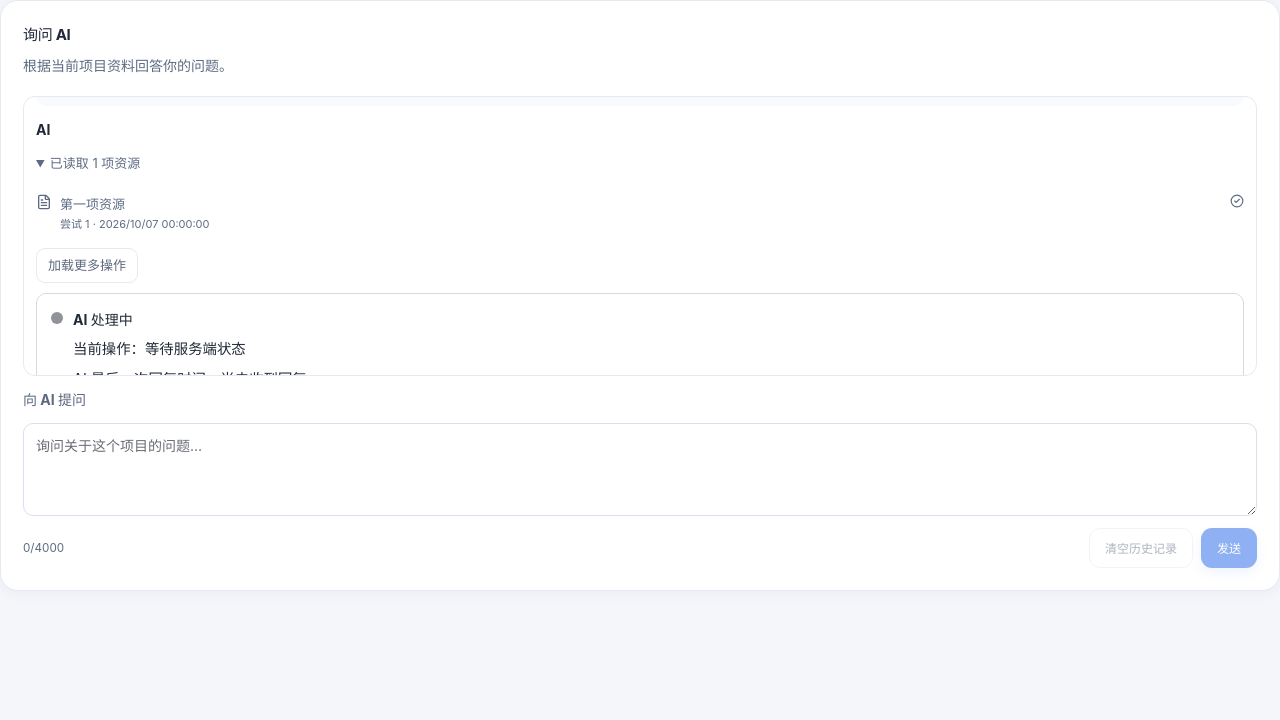
Test case: retains an operation page when the job fails while that page is loading
The image size is (1280, 720).
(page scrolled)
Expected: the text "第一项资源" is shown, [60,196,125,212]
Click the button "加载更多操作" at (87, 266), box [36,248,138,283]
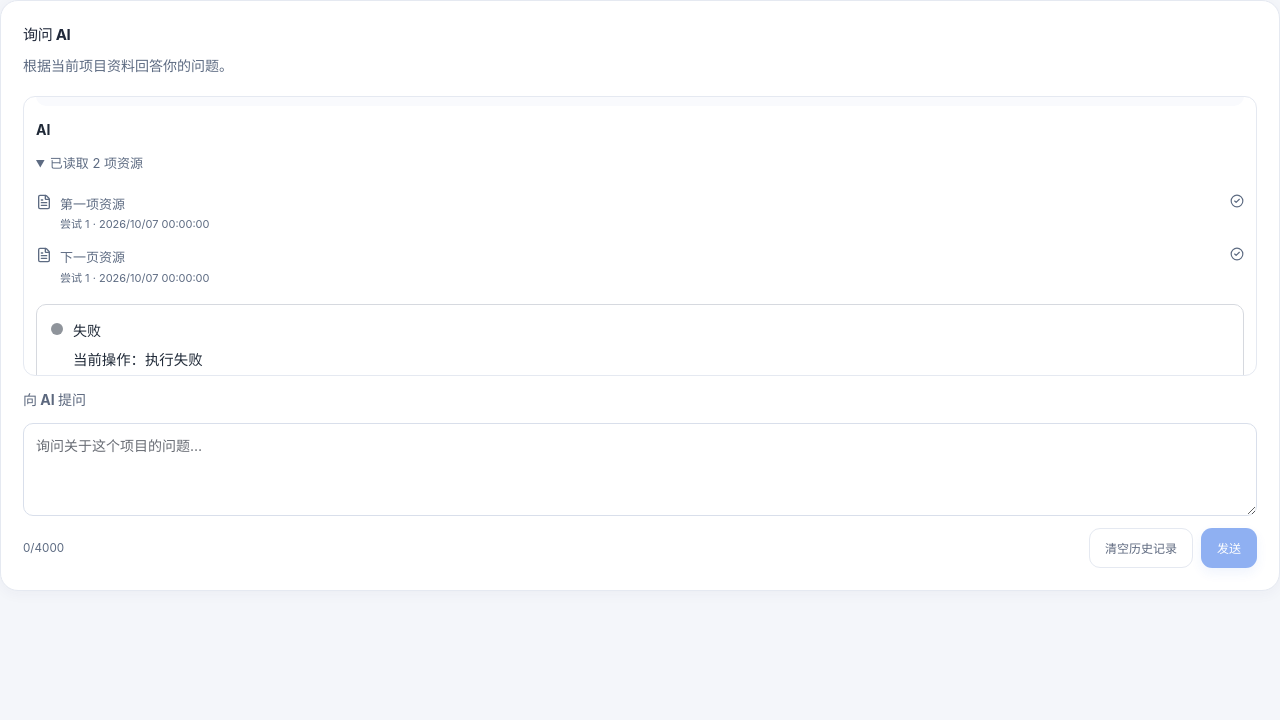
Expected: the text "第一项资源" is shown, [60,196,125,212]
Result: the text "下一页资源" is shown at [60,249,125,265]
